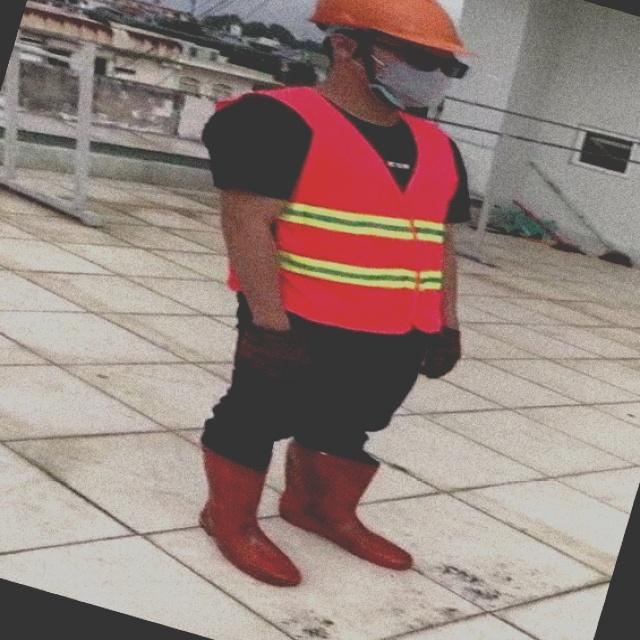helmet: (304, 2, 492, 65)
safety_vest: (230, 76, 506, 332)
